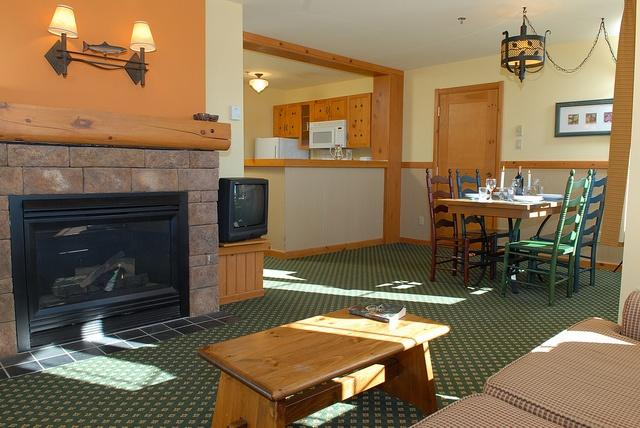Kursi: (499, 166, 591, 307), (424, 167, 494, 288)
Lemari: (310, 94, 371, 148)
Meja: (194, 300, 451, 427)
